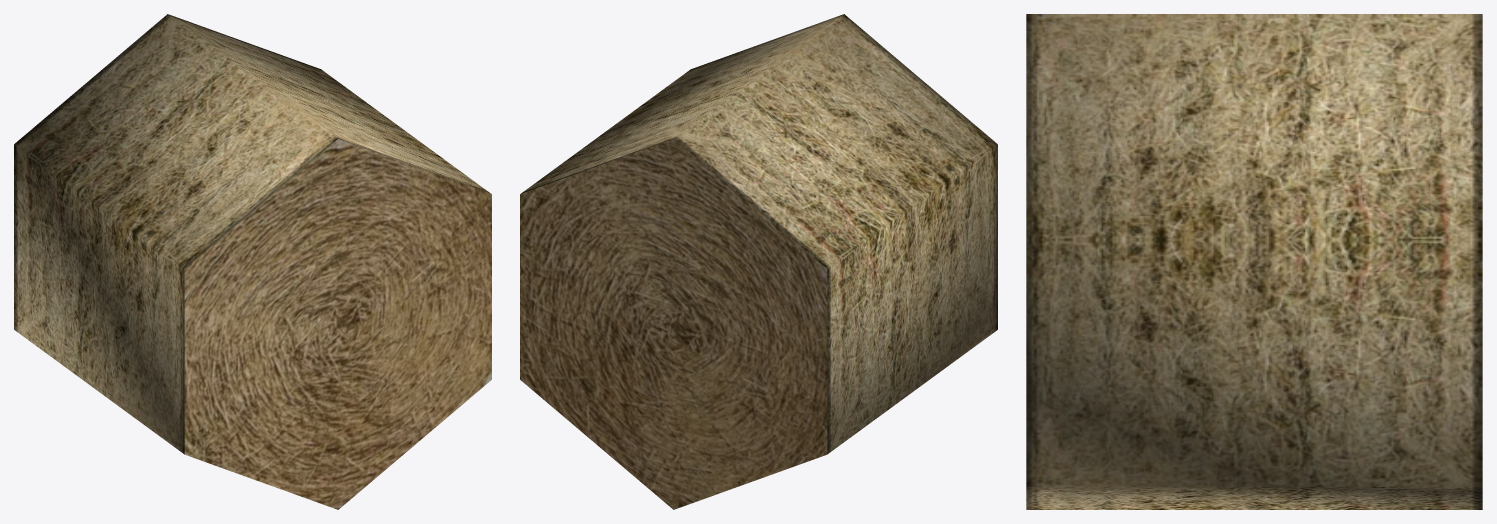
Rendered from hay-bale-straw-cbj_LOD02.gltf.
3 renders of one model, left to right at view 1: azimuth 30°, elevation 25°; view 2: azimuth 150°, elevation 25°; view 3: azimuth 270°, elevation 25°, orthographic. The views are drawn at different scales.
Parts seen in each view (by area): view 1: Cube01.001; view 2: Cube01.001; view 3: Cube01.001.
Boxes of the visible parts, x1,y1,x2,y2 form: Cube01.001: (14, 14, 491, 509); Cube01.001: (520, 14, 997, 509); Cube01.001: (1026, 14, 1482, 509).
Size of what is drawn, in the model's own units: 1.56 by 1.8 by 1.5.
